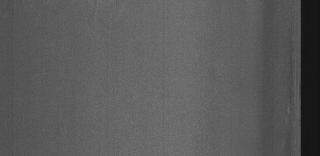silk spot: (282, 50, 300, 142)
